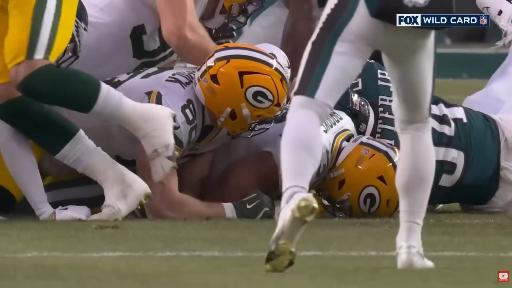Helmet: (195, 44, 288, 135), (322, 136, 398, 217), (200, 0, 264, 44), (56, 0, 88, 66), (202, 0, 264, 33), (335, 86, 375, 137), (256, 43, 290, 81), (224, 0, 264, 27)
Jersey: (104, 68, 231, 163), (71, 0, 176, 80), (430, 96, 500, 205), (335, 61, 398, 146), (310, 110, 355, 189), (365, 0, 454, 25)
Player: (266, 0, 453, 271), (63, 44, 287, 218), (0, 0, 174, 218), (52, 0, 257, 79), (71, 0, 262, 80), (430, 94, 511, 212), (205, 112, 286, 201), (238, 0, 325, 79), (463, 50, 511, 114)
